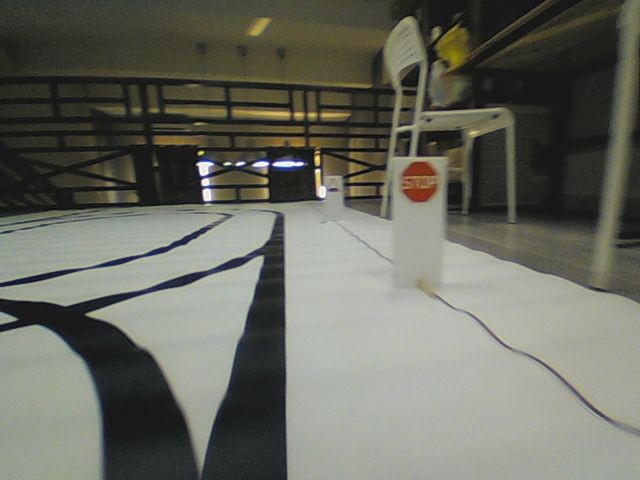Stop: (400, 161, 439, 202)
